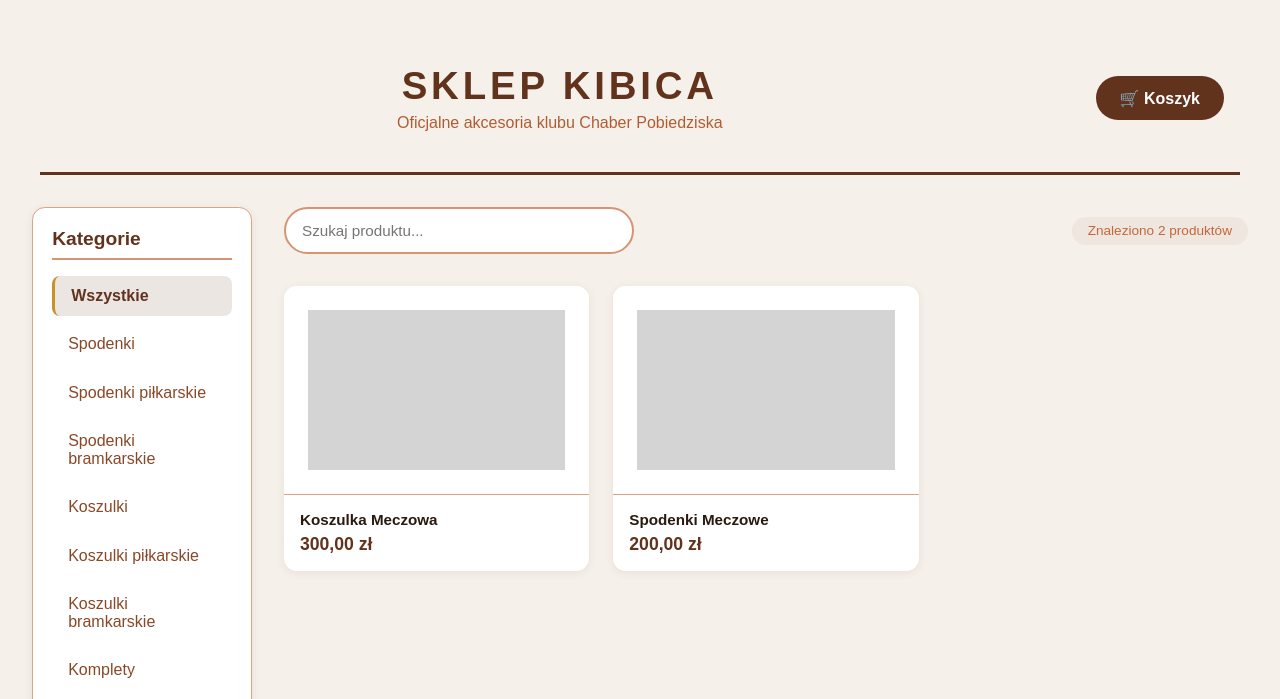
it: Shop Component › should clear search
Expected: the text "Koszulka Meczowa" is shown, x1=300 y1=511 x2=438 y2=528
Type "Koszulka" into the field with placeholder "Szukaj produktu..." at (459, 231), box x1=284 y1=207 x2=634 y2=254
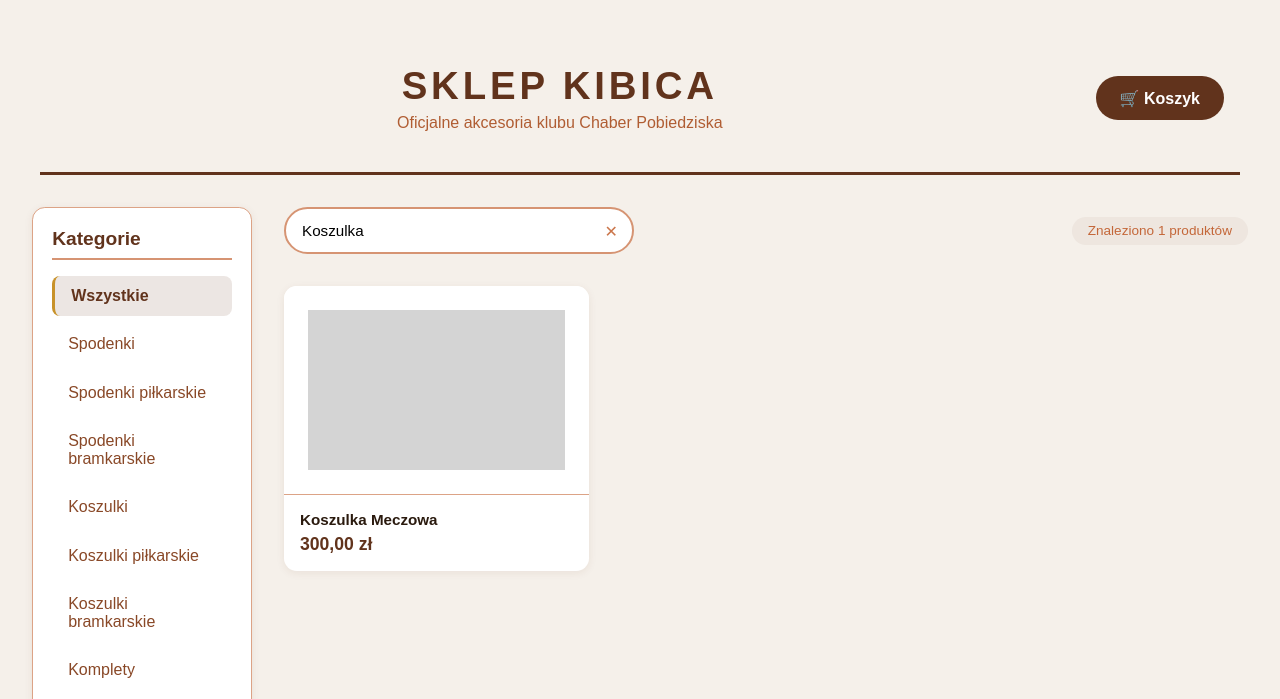
Expected: the text "Koszulka Meczowa" is shown, x1=300 y1=511 x2=438 y2=528
Expected: the text "Spodenki Meczowe" is gone
Click the button "✕" at (611, 231), box x1=605 y1=221 x2=618 y2=240
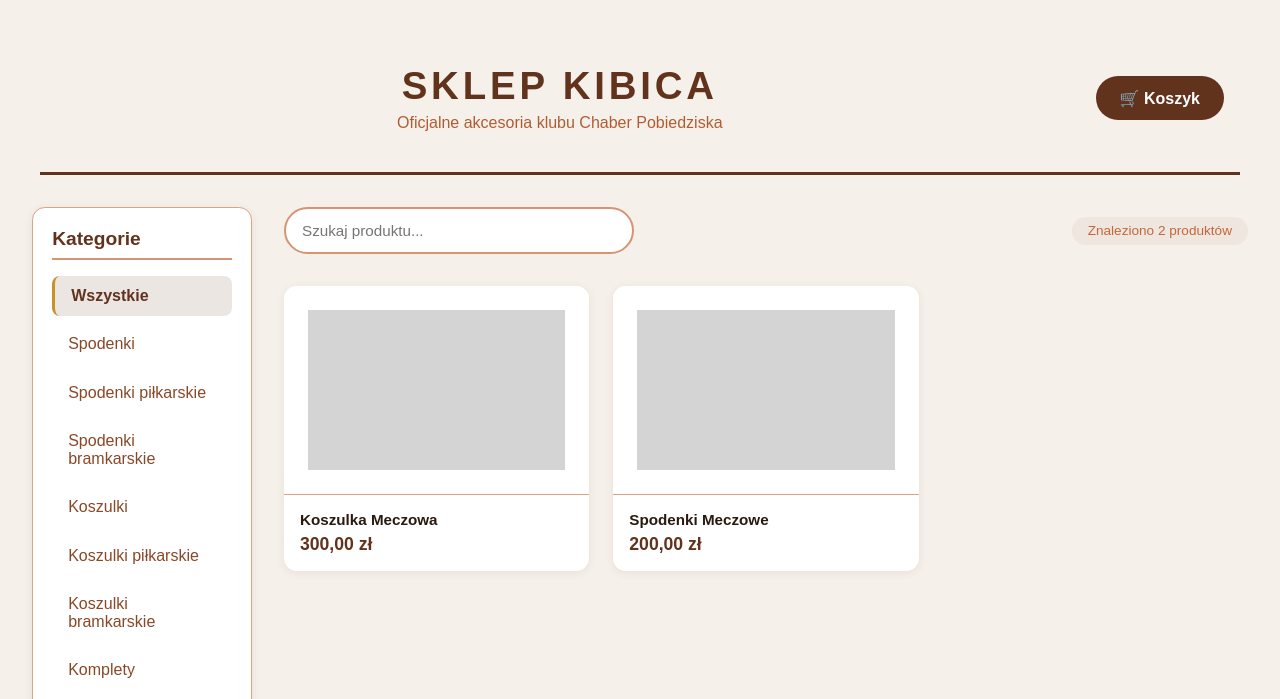
Expected: the text "Koszulka Meczowa" is shown, x1=300 y1=511 x2=438 y2=528
Expected: the text "Spodenki Meczowe" is shown, x1=629 y1=511 x2=769 y2=528
